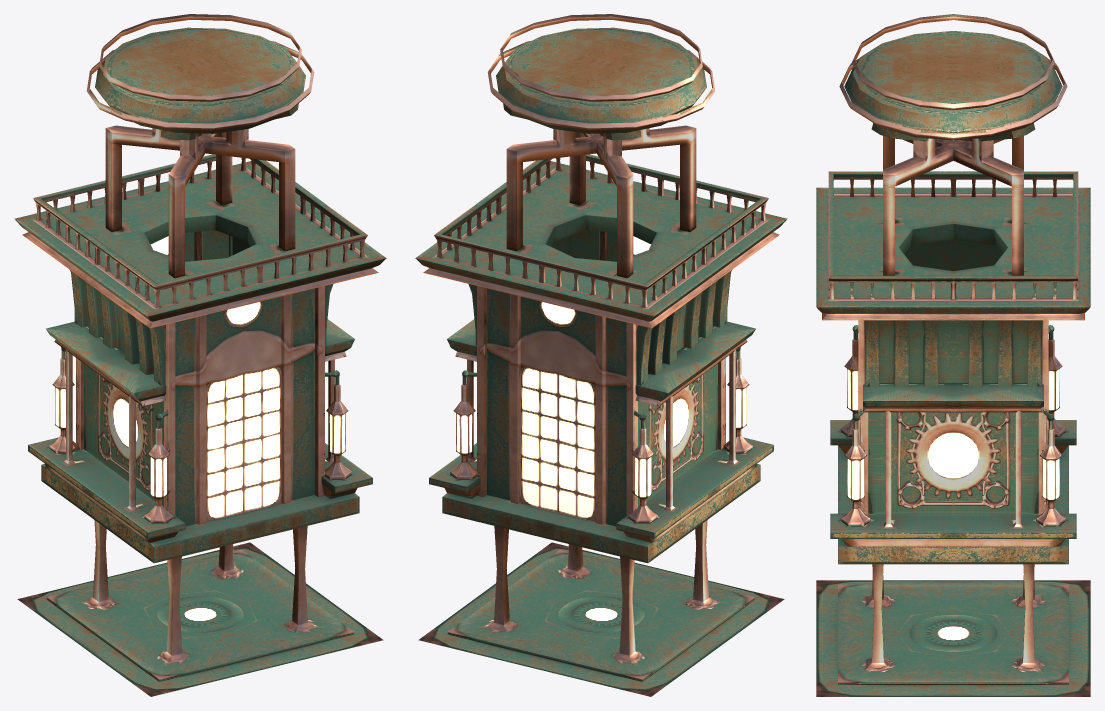
The model's file is f07ff6d0-cbf5-419c-8dbc-a37578bed739.glb.
3 renders of one model, left to right at view 1: azimuth 30°, elevation 25°; view 2: azimuth 150°, elevation 25°; view 3: azimuth 270°, elevation 25°, orthographic. The views are drawn at different scales.
Parts seen in each view (by area): view 1: Steampunk Elevator; view 2: Steampunk Elevator; view 3: Steampunk Elevator.
Part boxes in pixels (left/top/right/bottom): Steampunk Elevator: left=14, top=14, right=386, bottom=696; Steampunk Elevator: left=415, top=14, right=787, bottom=696; Steampunk Elevator: left=816, top=14, right=1090, bottom=696.
Size of what is drawn, in the model's own units: 5.61 by 12.67 by 5.43.
Materials: 1 (1 with a texture image).
